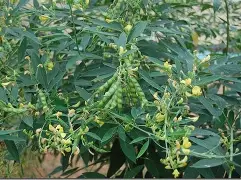crops: (0, 1, 238, 176), (156, 54, 203, 100)
